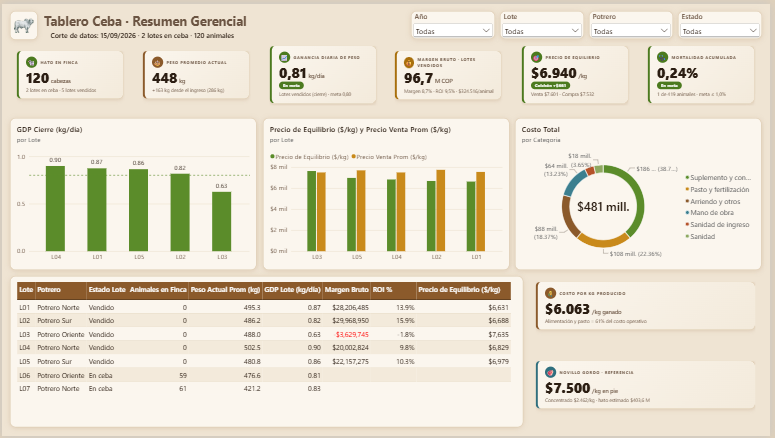

The dashboard page shown, as its layout file describes it:
{"tool":"powerbi","page":{"name":"Página 1","canvas":[1920,1080],"ordinal":0},"visuals":[{"type":"textbox","title":"Título","box":[105,18.8,700,44],"z":0},{"type":"cardVisual","title":"Subtítulo","fields":{"Data":["_Medidas.Subtítulo Corte"]},"box":[105,62,700,28],"z":1000},{"type":"slicer","fields":{"Values":["dim_calendario.Año"]},"box":[1022.5,17.5,210,70],"z":2000},{"type":"slicer","fields":{"Values":["lotes.lote"]},"box":[1245,17.5,210,70],"z":3000},{"type":"slicer","fields":{"Values":["lotes.potrero"]},"box":[1467.5,17.5,210,70],"z":4000},{"type":"htmlContent443BE3AD55E043BF878BED274D3A6865","fields":{"content":["_Medidas.Tarjeta Costo Kg"]},"box":[1317,680,582,182],"z":5000},{"type":"htmlContent443BE3AD55E043BF878BED274D3A6865","fields":{"content":["_Medidas.Tarjeta Equilibrio"]},"box":[1281.2,90,300,180],"z":6000},{"type":"htmlContent443BE3AD55E043BF878BED274D3A6865","fields":{"content":["_Medidas.Tarjeta GDP Lote"]},"box":[651.2,90,300,180],"z":7000},{"type":"htmlContent443BE3AD55E043BF878BED274D3A6865","fields":{"content":["_Medidas.Tarjeta Hato"]},"box":[21,102,300,168],"z":8000},{"type":"htmlContent443BE3AD55E043BF878BED274D3A6865","fields":{"content":["_Medidas.Tarjeta Margen"]},"box":[966,102,300,168],"z":9000},{"type":"htmlContent443BE3AD55E043BF878BED274D3A6865","fields":{"content":["_Medidas.Tarjeta Mercado"]},"box":[1317,877,582,182],"z":10000},{"type":"htmlContent443BE3AD55E043BF878BED274D3A6865","fields":{"content":["_Medidas.Tarjeta Mortalidad"]},"box":[1596.2,90,300,180],"z":11000},{"type":"htmlContent443BE3AD55E043BF878BED274D3A6865","fields":{"content":["_Medidas.Tarjeta Peso"]},"box":[336,102,300,168],"z":12000},{"type":"clusteredColumnChart","fields":{"Category":["lotes.lote"],"Y":["_Medidas.GDP Cierre (kg/día)"]},"box":[21,285,616,380],"z":13000},{"type":"clusteredColumnChart","fields":{"Category":["lotes.lote"],"Y":["_Medidas.Precio de Equilibrio ($/kg)","_Medidas.Precio Venta Prom ($/kg)"]},"box":[652,285,616,380],"z":14000},{"type":"donutChart","fields":{"Category":["costos_lote.categoria"],"Y":["_Medidas.Costo Total"]},"box":[1283,285,616,380],"z":15000},{"type":"tableEx","fields":{"Values":["lotes.lote","lotes.potrero","_Medidas.Estado Lote","_Medidas.Animales en Finca","_Medidas.Peso Actual Prom (kg)","_Medidas.GDP Lote (kg/día)","_Medidas.Margen Bruto","_Medidas.ROI %","_Medidas.Precio de Equilibrio ($/kg)"]},"box":[20,680,1282.5,377.5],"z":16000},{"type":"image","box":[21,18,69,72],"z":17000},{"type":"slicer","fields":{"Values":["estado_lote.estado"]},"box":[1690,17.5,210,70],"z":17001}]}

Visuals, with their boxes in screenshot pixels (x1, y1, x2, y2), scaled from the page's 1920x1080 canvas onto the 775x438 screenshot:
"Título" textbox: Rect(42, 8, 325, 25)
"Subtítulo" cardVisual: Rect(42, 25, 325, 36)
slicer - dim_calendario.Año: Rect(413, 7, 497, 35)
slicer - lotes.lote: Rect(503, 7, 587, 35)
slicer - lotes.potrero: Rect(592, 7, 677, 35)
htmlContent443BE3AD55E043BF878BED274D3A6865 - _Medidas.Tarjeta Costo Kg: Rect(532, 276, 767, 350)
htmlContent443BE3AD55E043BF878BED274D3A6865 - _Medidas.Tarjeta Equilibrio: Rect(517, 36, 638, 110)
htmlContent443BE3AD55E043BF878BED274D3A6865 - _Medidas.Tarjeta GDP Lote: Rect(263, 36, 384, 110)
htmlContent443BE3AD55E043BF878BED274D3A6865 - _Medidas.Tarjeta Hato: Rect(8, 41, 130, 110)
htmlContent443BE3AD55E043BF878BED274D3A6865 - _Medidas.Tarjeta Margen: Rect(390, 41, 511, 110)
htmlContent443BE3AD55E043BF878BED274D3A6865 - _Medidas.Tarjeta Mercado: Rect(532, 356, 767, 429)
htmlContent443BE3AD55E043BF878BED274D3A6865 - _Medidas.Tarjeta Mortalidad: Rect(644, 36, 765, 110)
htmlContent443BE3AD55E043BF878BED274D3A6865 - _Medidas.Tarjeta Peso: Rect(136, 41, 257, 110)
clusteredColumnChart - lotes.lote x _Medidas.GDP Cierre (kg/día): Rect(8, 116, 257, 270)
clusteredColumnChart - lotes.lote x _Medidas.Precio de Equilibrio ($/kg): Rect(263, 116, 512, 270)
donutChart - costos_lote.categoria x _Medidas.Costo Total: Rect(518, 116, 767, 270)
tableEx - lotes.lote x lotes.potrero: Rect(8, 276, 526, 429)
image: Rect(8, 7, 36, 36)
slicer - estado_lote.estado: Rect(682, 7, 767, 35)
